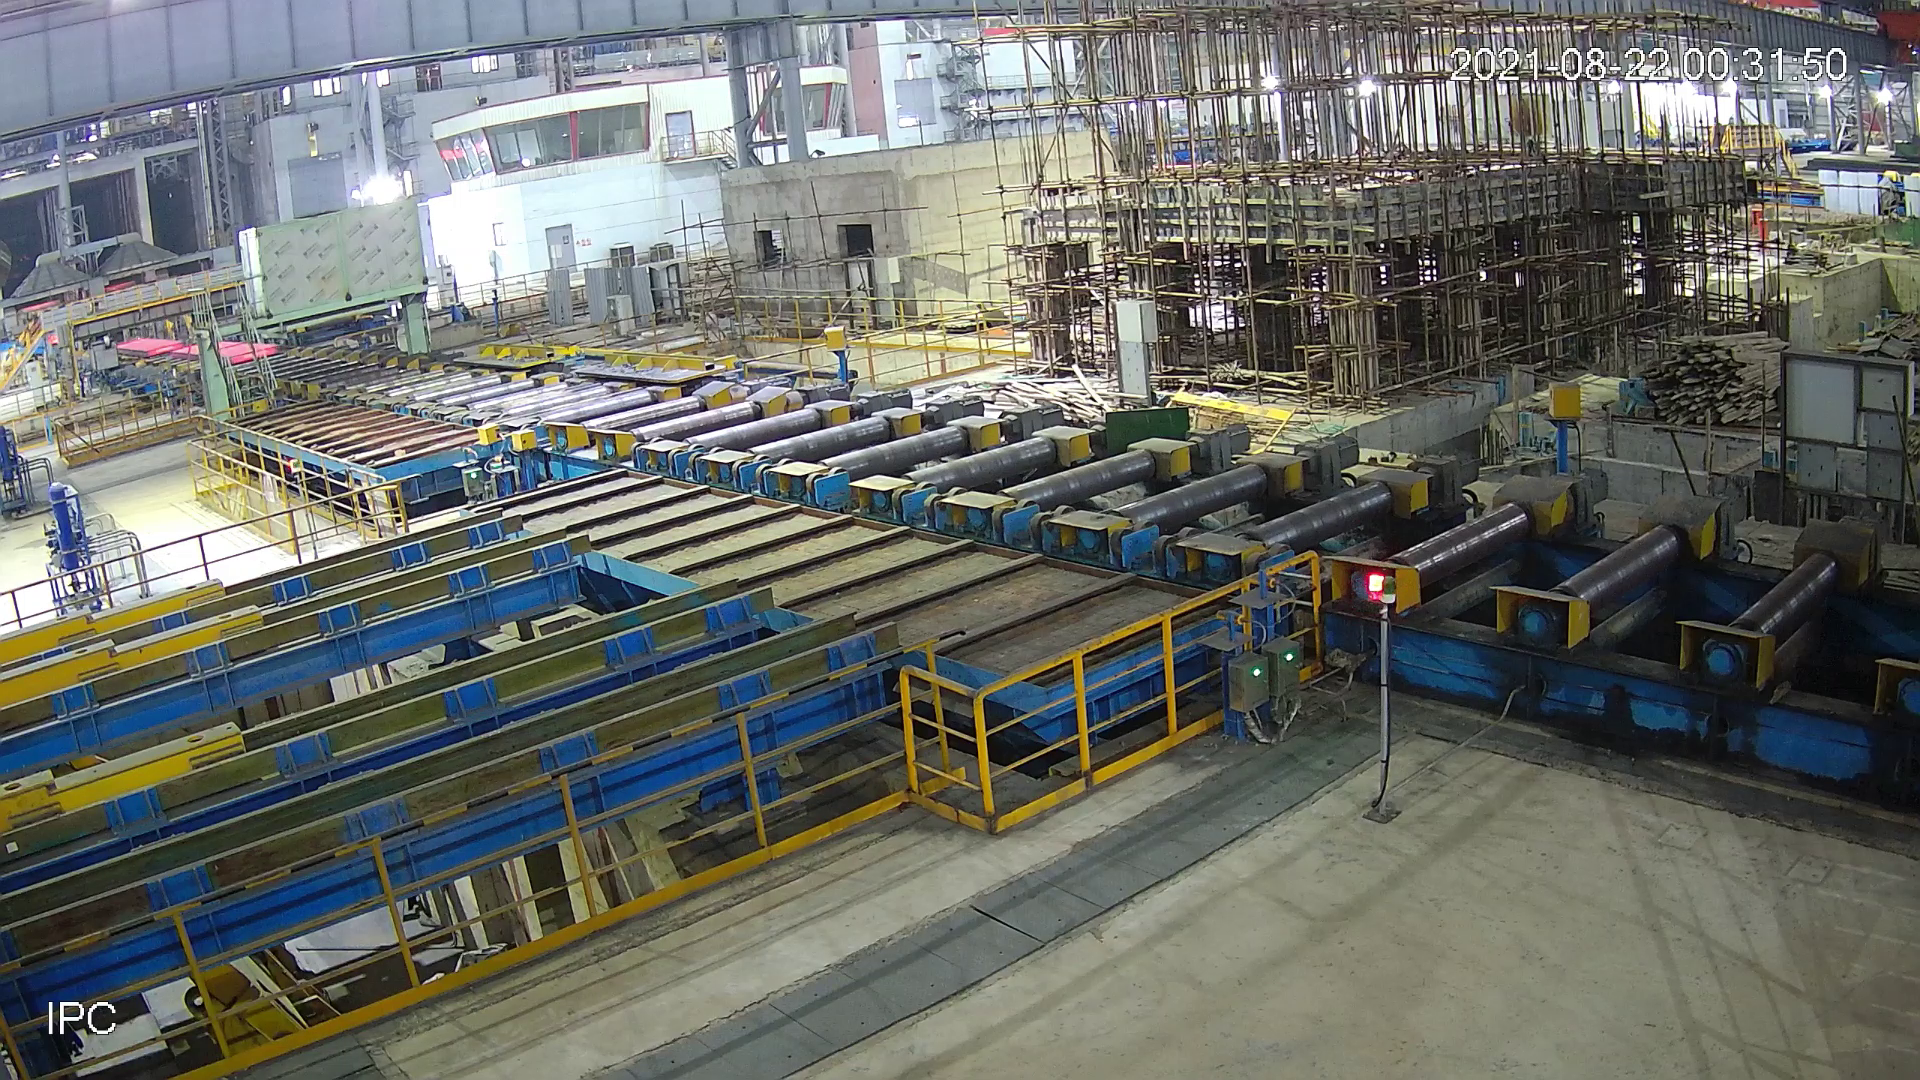slab: (173, 336, 282, 372), (112, 334, 179, 359)
